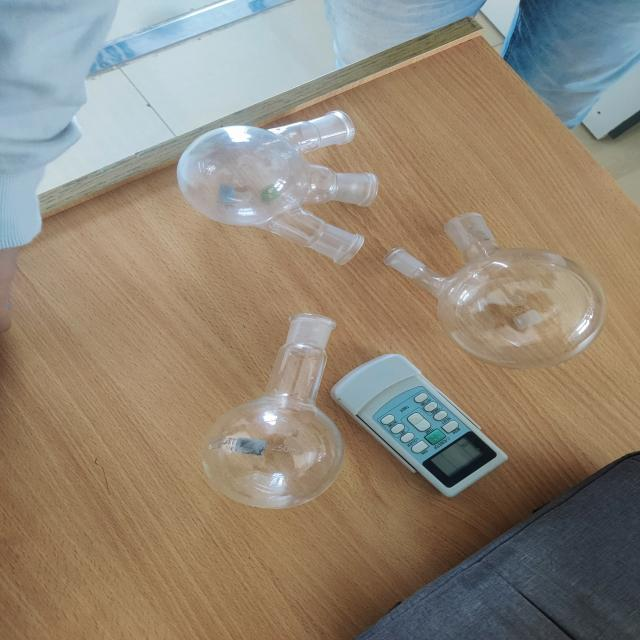Round_Bottom_Flask_Borosilicate_Glass_1_Neck: (182, 277, 382, 522)
Round_Bottom_Flask_Borosilicate_Glass_2_Neck: (367, 181, 618, 385)
Round_Bottom_Flask_Borosilicate_Glass_3_Neck: (146, 85, 412, 283)
